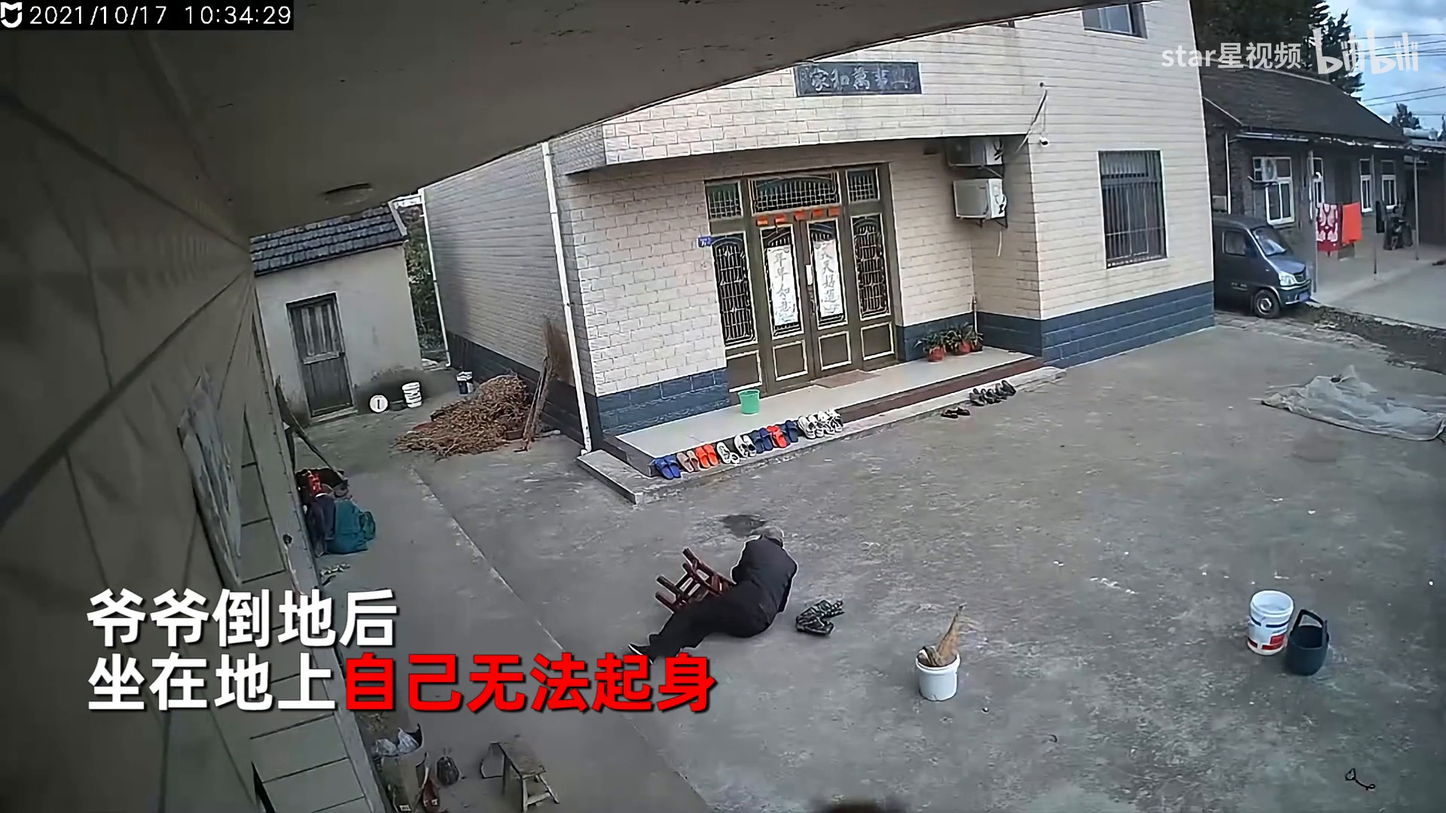half_up: (627, 531, 798, 661)
